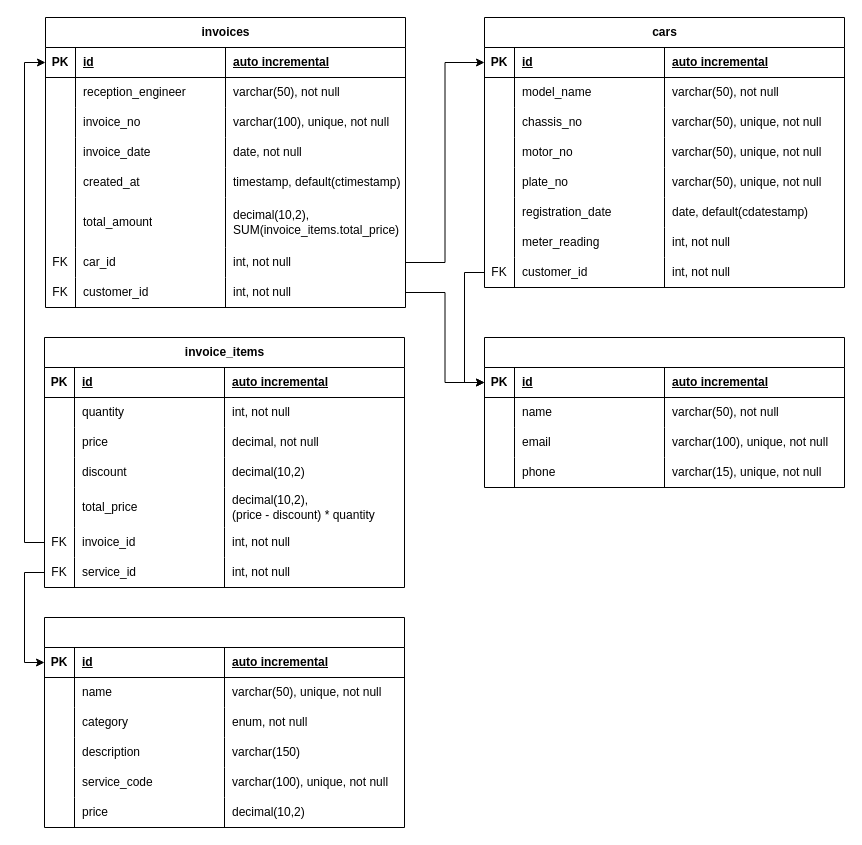
Image size: 862x845. Some labels were removed from this diagram. The shapes that lost their labels are listed below. From the top down, each one's box as (x1, y1, x2, y2) in pixels, then its label:
(484, 336, 844, 488): customers
(44, 616, 404, 828): services
